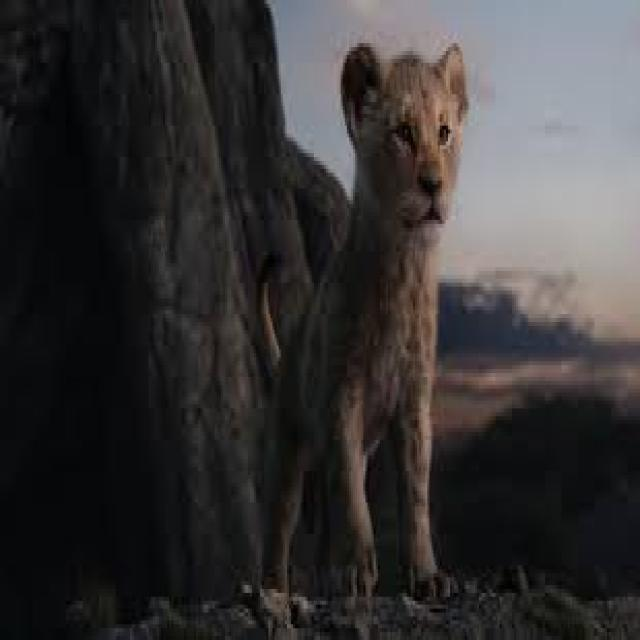Lion: (257, 38, 472, 604)
